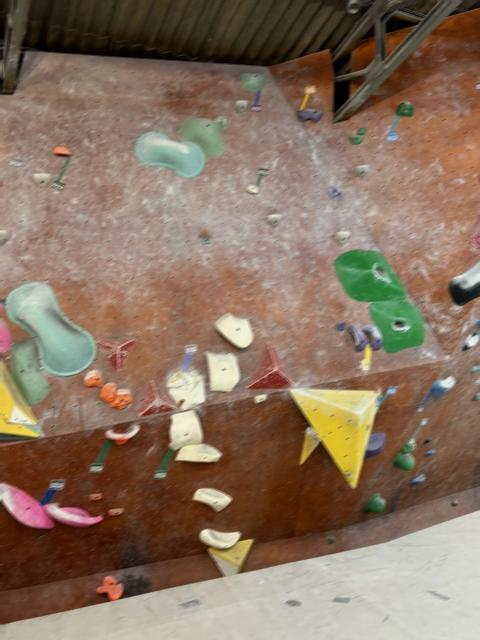crimp: (240, 72, 265, 91), (254, 394, 267, 403), (349, 136, 362, 144), (335, 322, 345, 331)
downhold: (333, 230, 350, 246), (33, 173, 50, 188), (266, 213, 282, 227), (354, 164, 369, 178), (234, 99, 247, 114)
jib: (325, 187, 343, 199), (108, 508, 124, 515), (88, 492, 102, 500), (246, 185, 257, 192), (199, 237, 210, 244)
jug: (96, 576, 122, 599), (347, 322, 366, 351), (361, 324, 382, 349), (431, 376, 454, 398), (296, 107, 323, 122), (110, 389, 131, 408), (83, 369, 103, 386), (100, 382, 116, 402), (395, 102, 413, 116), (401, 438, 415, 452), (408, 111, 409, 111)
ledge: (134, 131, 205, 177), (43, 503, 102, 526), (193, 488, 231, 511), (175, 442, 220, 461), (199, 528, 240, 548)
pocket: (333, 249, 406, 301), (368, 300, 424, 351)
sidepull: (4, 282, 96, 375), (168, 410, 202, 449), (205, 351, 239, 389)
sloper: (180, 117, 223, 156), (364, 493, 385, 512), (393, 452, 414, 470)
tape: (89, 438, 111, 472), (154, 447, 174, 478), (51, 156, 69, 189), (40, 481, 64, 504), (0, 159, 21, 185), (416, 388, 436, 412), (180, 344, 197, 371), (299, 85, 315, 109), (386, 114, 399, 140), (360, 344, 371, 371), (380, 387, 396, 403), (254, 168, 267, 187), (250, 89, 260, 110)
undercling: (0, 482, 54, 528), (214, 312, 252, 348), (53, 143, 70, 154)
volume: (289, 389, 376, 488), (246, 342, 295, 388), (207, 539, 252, 575), (138, 380, 175, 416), (97, 338, 134, 370)
